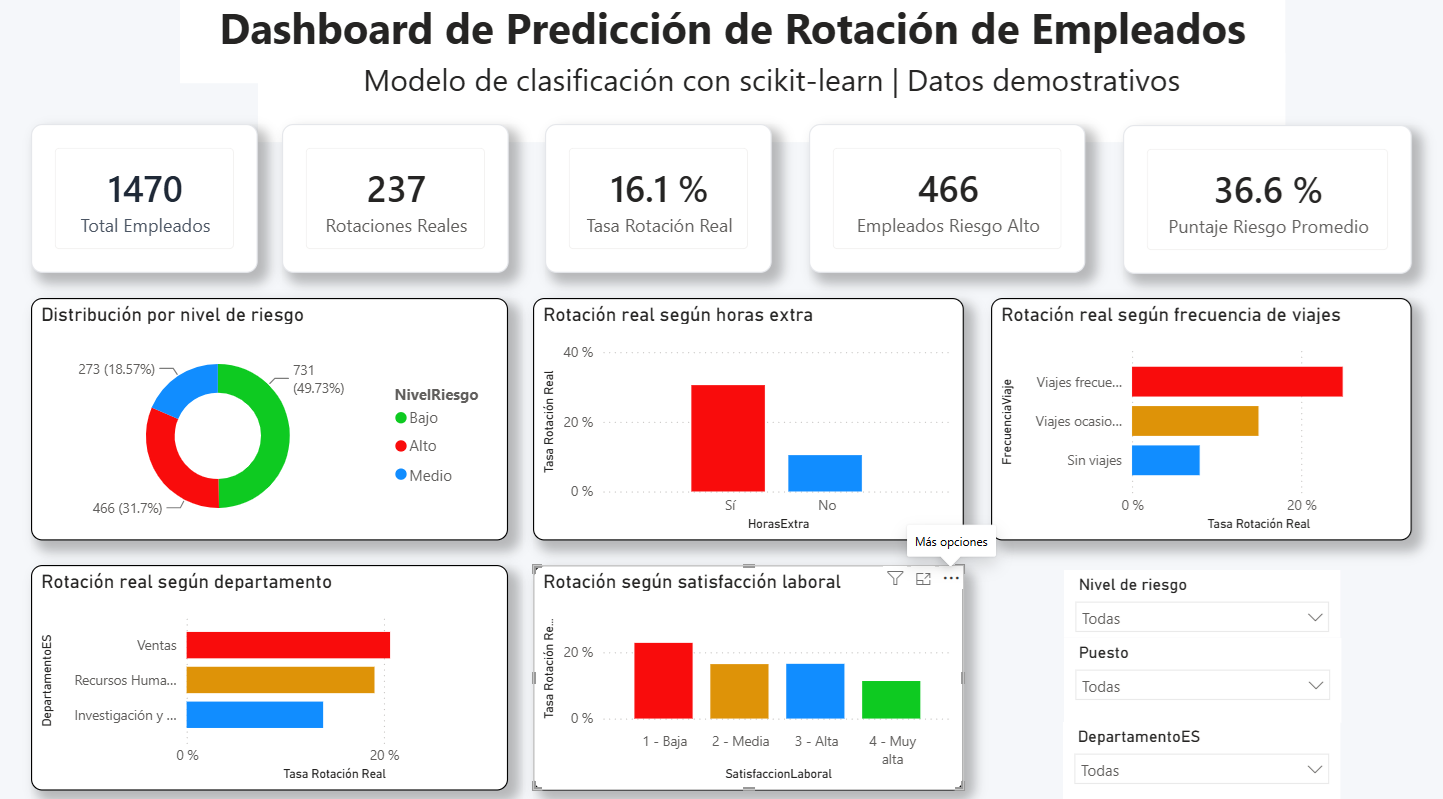

Layout of this report page (visuals, bound fields, positions):
{"tool":"powerbi","page":{"name":"Resumen Ejecutivo","canvas":[1280,720],"ordinal":0},"visuals":[{"type":"textbox","box":[160.5,0,979.8,79.8],"z":0},{"type":"textbox","box":[229.5,53,911,79.4],"z":1000},{"type":"cardVisual","fields":{"Data":["RotacionEmpleados.Total Empleados"]},"box":[28.2,116.5,201.3,132.4],"z":2000},{"type":"cardVisual","fields":{"Data":["RotacionEmpleados.Rotaciones Reales"]},"box":[250.7,116.5,201.3,132.4],"z":3000},{"type":"cardVisual","fields":{"Data":["RotacionEmpleados.Tasa Rotación Real"]},"box":[483.8,116.5,201.3,132.4],"z":4000},{"type":"cardVisual","fields":{"Data":["RotacionEmpleados.Empleados Riesgo Alto"]},"box":[718.6,116.5,245.4,132.4],"z":5000},{"type":"cardVisual","fields":{"Data":["RotacionEmpleados.Puntaje Riesgo Promedio"]},"box":[996.5,116.6,256.3,132.5],"z":6000},{"type":"donutChart","title":"Distribución por nivel de riesgo","fields":{"Category":["RotacionEmpleados.NivelRiesgo"],"Y":["RotacionEmpleados.Total Empleados"]},"box":[28.8,270.7,423.4,214.6],"z":7000},{"type":"clusteredColumnChart","title":"Rotación real según horas extra","fields":{"Y":["RotacionEmpleados.Tasa Rotación Real"],"Category":["RotacionEmpleados.HorasExtra"]},"box":[473.8,270.7,381.6,214.6],"z":8000},{"type":"clusteredBarChart","title":"Rotación real según frecuencia de viajes","fields":{"Y":["RotacionEmpleados.Tasa Rotación Real"],"Category":["RotacionEmpleados.FrecuenciaViaje"]},"box":[879.8,270.7,373,214.6],"z":9000},{"type":"clusteredBarChart","title":"Rotación real según departamento","fields":{"Category":["RotacionEmpleados.DepartamentoES"],"Y":["RotacionEmpleados.Tasa Rotación Real"]},"box":[28.8,506.9,423.4,200.2],"z":10000},{"type":"clusteredColumnChart","title":"Rotación según satisfacción laboral","fields":{"Y":["RotacionEmpleados.Tasa Rotación Real"],"Category":["RotacionEmpleados.SatisfaccionLaboral"]},"box":[473.8,506.9,381.6,200.2],"z":11000},{"type":"slicer","fields":{"Values":["RotacionEmpleados.DepartamentoES"]},"box":[943.2,646.6,246.2,73.4],"z":12000},{"type":"slicer","fields":{"Values":["RotacionEmpleados.JobRole"]},"box":[944.6,571.7,246.2,74.9],"z":13000},{"type":"slicer","fields":{"Values":["RotacionEmpleados.NivelRiesgo"]},"box":[944.6,511.2,245.4,60],"z":14000}]}

Visuals, with their boxes in screenshot pixels (x1, y1, x2, y2), scaled from the page's 1280x720 canvas onto the 1443x799 screenshot:
textbox: 181 0 1286 89
textbox: 259 59 1286 147
cardVisual - RotacionEmpleados.Total Empleados: 32 129 259 276
cardVisual - RotacionEmpleados.Rotaciones Reales: 283 129 510 276
cardVisual - RotacionEmpleados.Tasa Rotación Real: 545 129 772 276
cardVisual - RotacionEmpleados.Empleados Riesgo Alto: 810 129 1087 276
cardVisual - RotacionEmpleados.Puntaje Riesgo Promedio: 1123 129 1412 276
"Distribución por nivel de riesgo" donutChart: 32 300 510 539
"Rotación real según horas extra" clusteredColumnChart: 534 300 964 539
"Rotación real según frecuencia de viajes" clusteredBarChart: 992 300 1412 539
"Rotación real según departamento" clusteredBarChart: 32 563 510 785
"Rotación según satisfacción laboral" clusteredColumnChart: 534 563 964 785
slicer - RotacionEmpleados.DepartamentoES: 1063 718 1341 798
slicer - RotacionEmpleados.JobRole: 1065 634 1342 718
slicer - RotacionEmpleados.NivelRiesgo: 1065 567 1342 634
